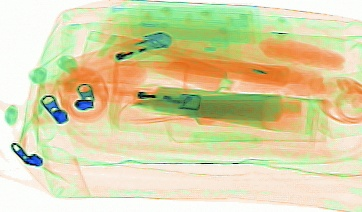lighter: (69, 28, 172, 75), (106, 78, 201, 110)
